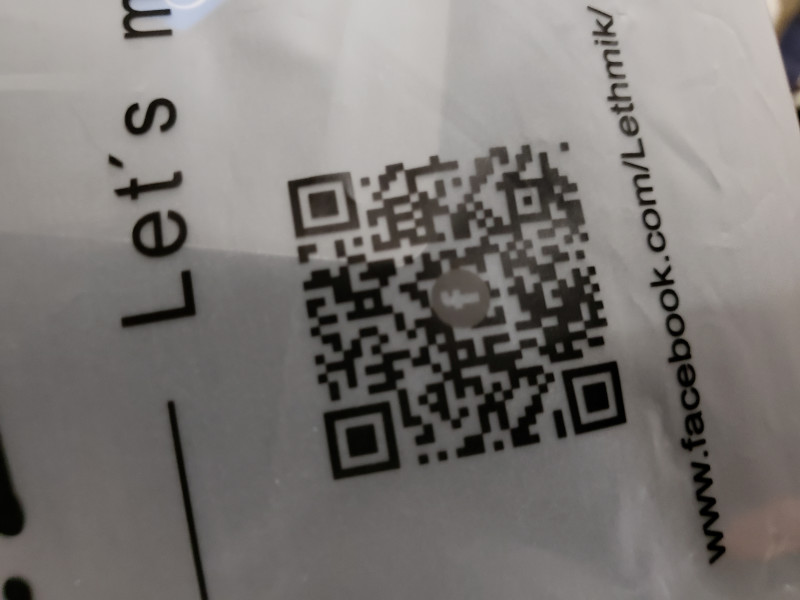QR_CODE: (271, 124, 643, 487)
